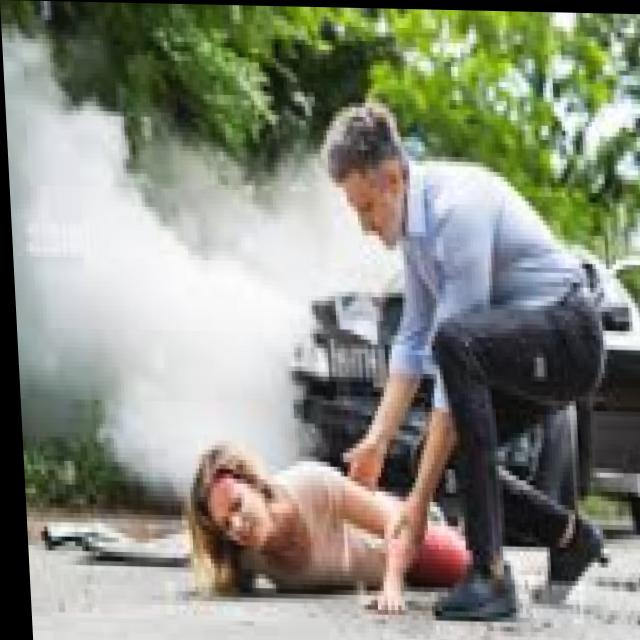injury: (185, 441, 310, 611), (312, 96, 408, 271)
no injury: (107, 84, 640, 632)
